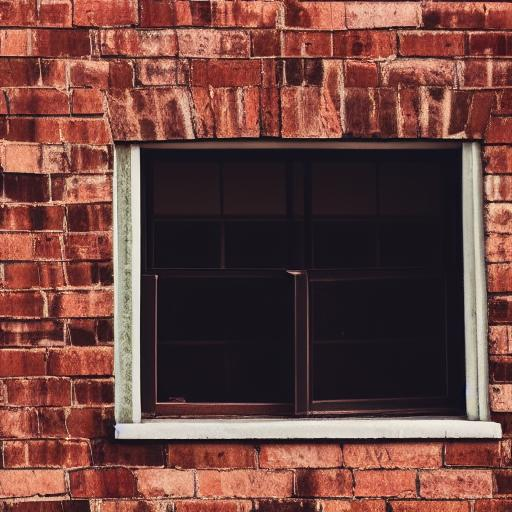Window: (109, 88, 507, 446)
